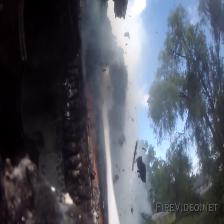smoke: (76, 0, 150, 224)
